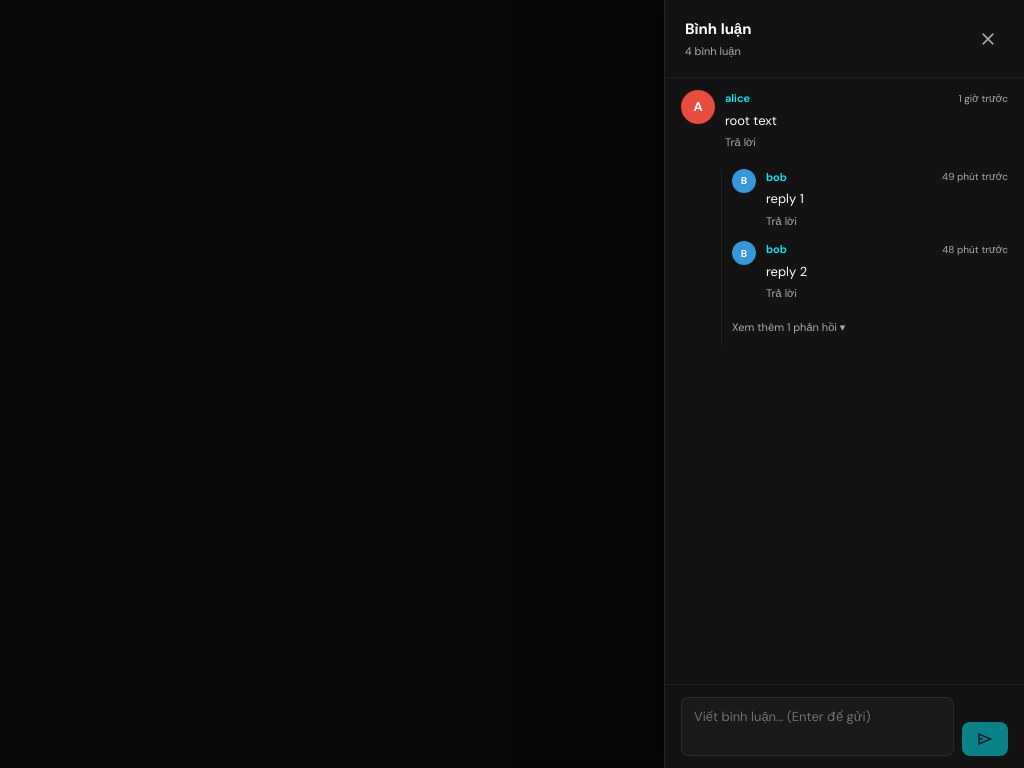
Test: CommentPanel › replying to a root posts with the root id, reloads and keeps the thread expanded
expect the text "root text" is shown: met, box [725,112,777,128]
Click the button "Trả lời" below "root text". click: (740, 142)
box: [725,134,756,150]
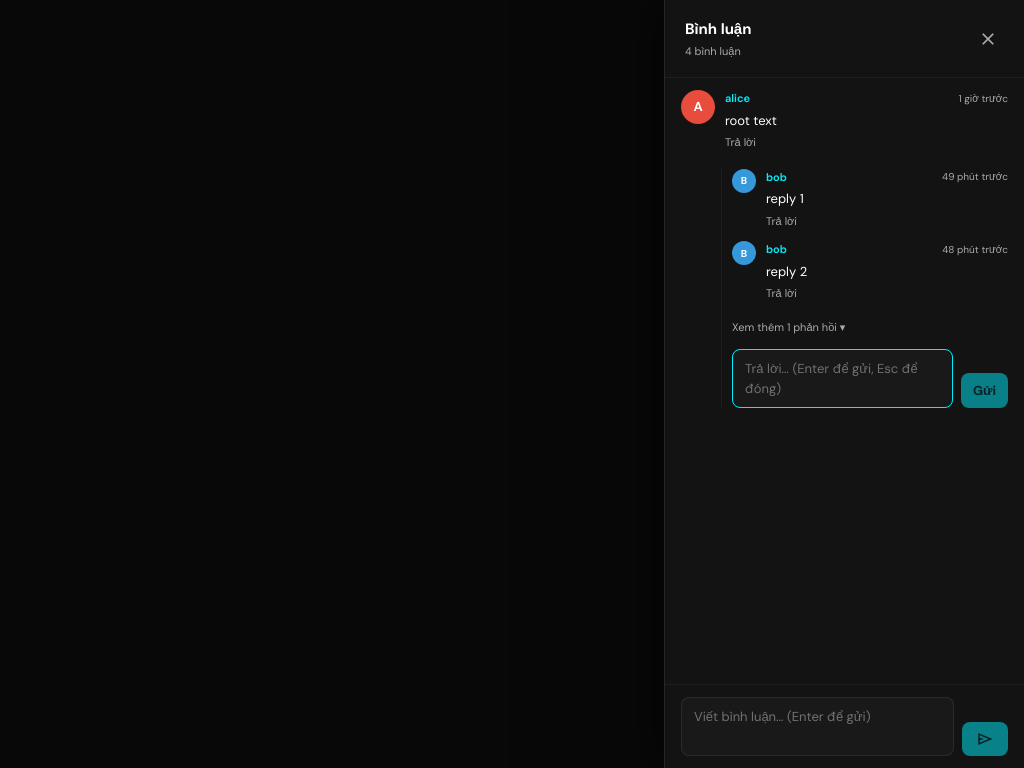
expect the text box named "Phản hồi" is empty: met
Type "hello" into the text box named "Phản hồi". click: (842, 378)
box: [732,349,953,408]
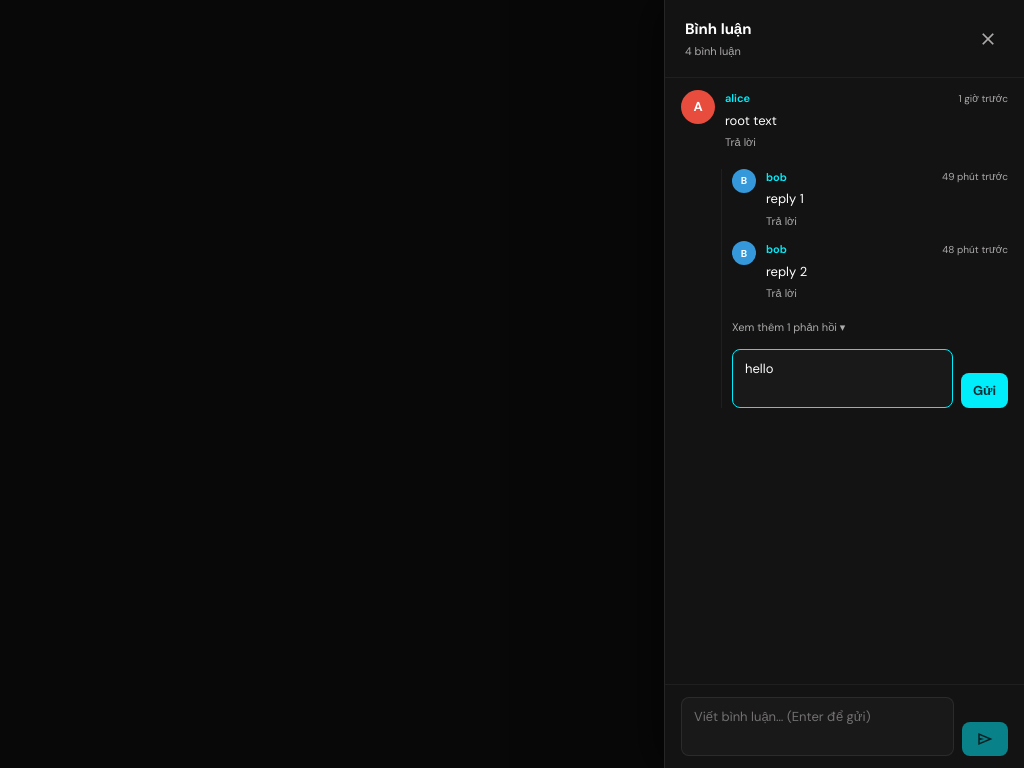
Press Enter in the text box named "Phản hồi", box [732,349,953,408]
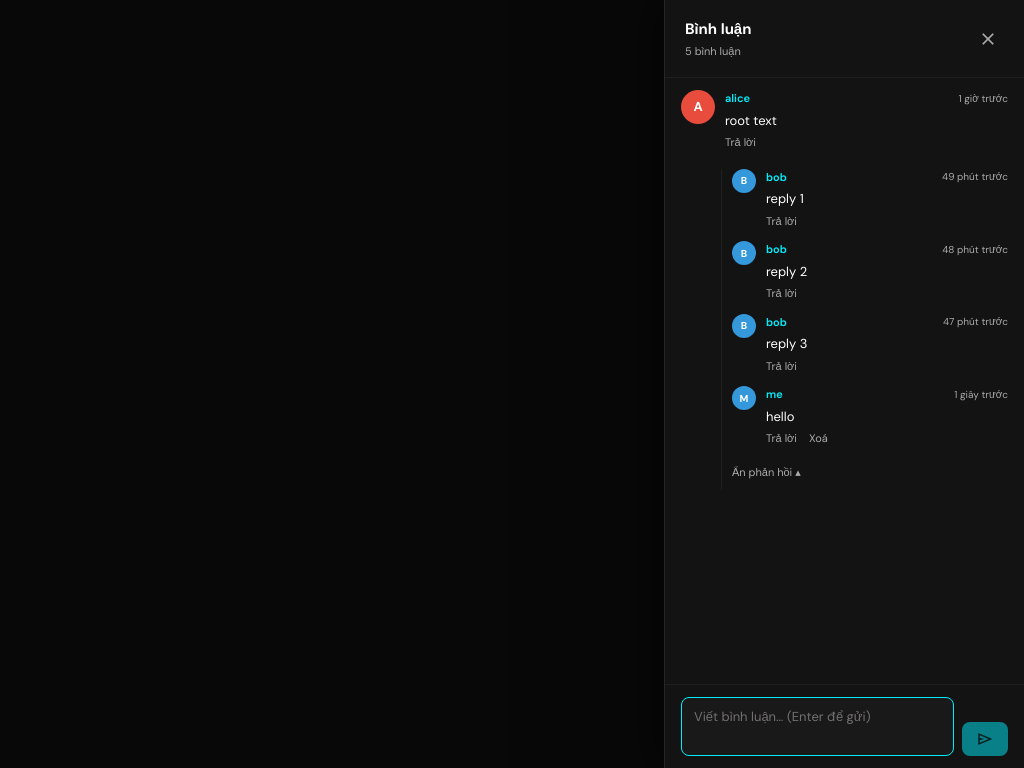
expect the text "hello" is shown: met, box [766,408,794,424]
expect the text "reply 3" is shown: met, box [766,335,807,352]
